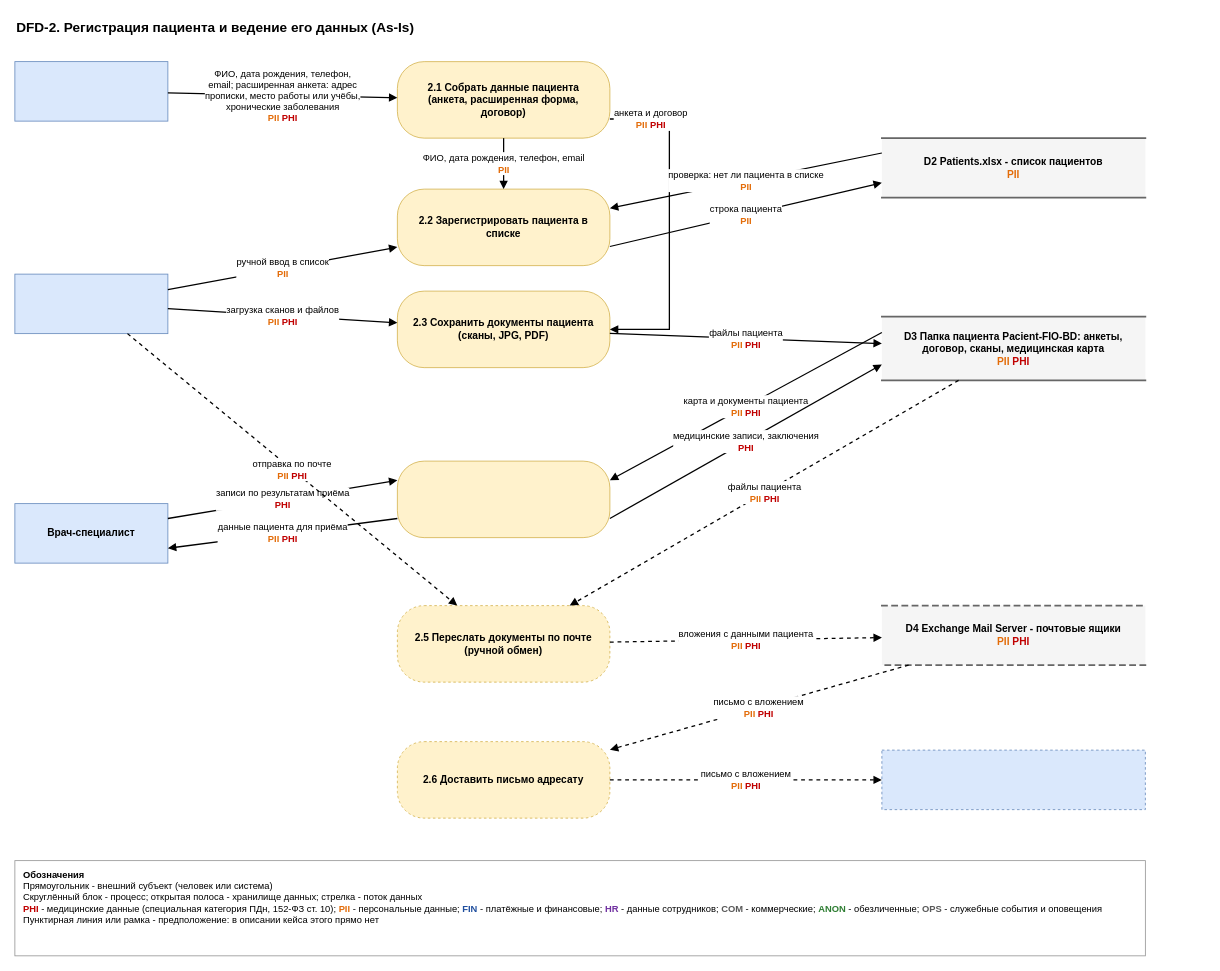
Image size: 1220x971. Some labels were removed from this diagram. The centre of each missing label's shape, as x and y in pixels:
"2.4 Использовать данные и медкарту на приёме" belongs at [503,499].
"Администратор (ресепшен)" belongs at [91,303].
"Пациент" belongs at [91,91].
"Получатель письма (пациент, лаборатория, коллега)" belongs at [1013,779].
